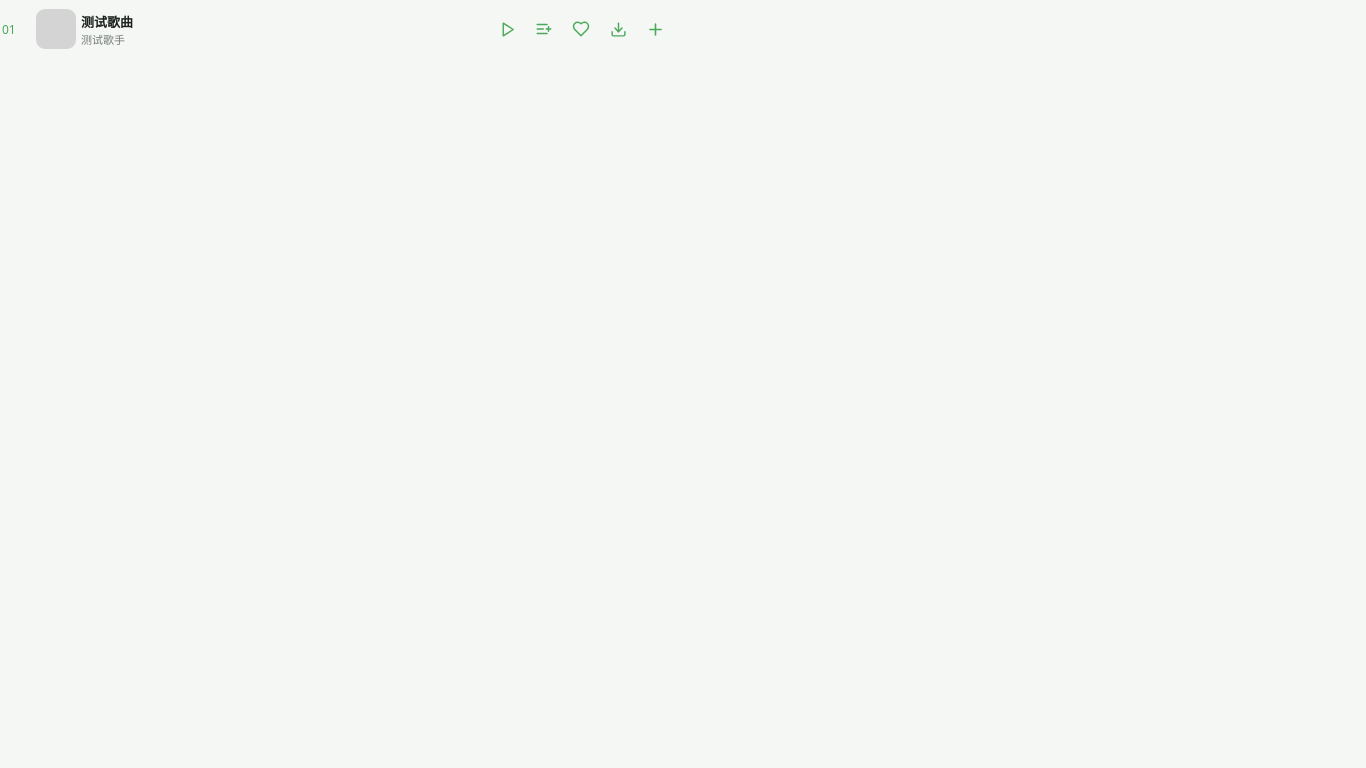
it: SongList numbering › opens the lyric download option before downloading from a list
Step 1. Click the button named "下载歌曲" → (618, 29), box [603,14,633,44]
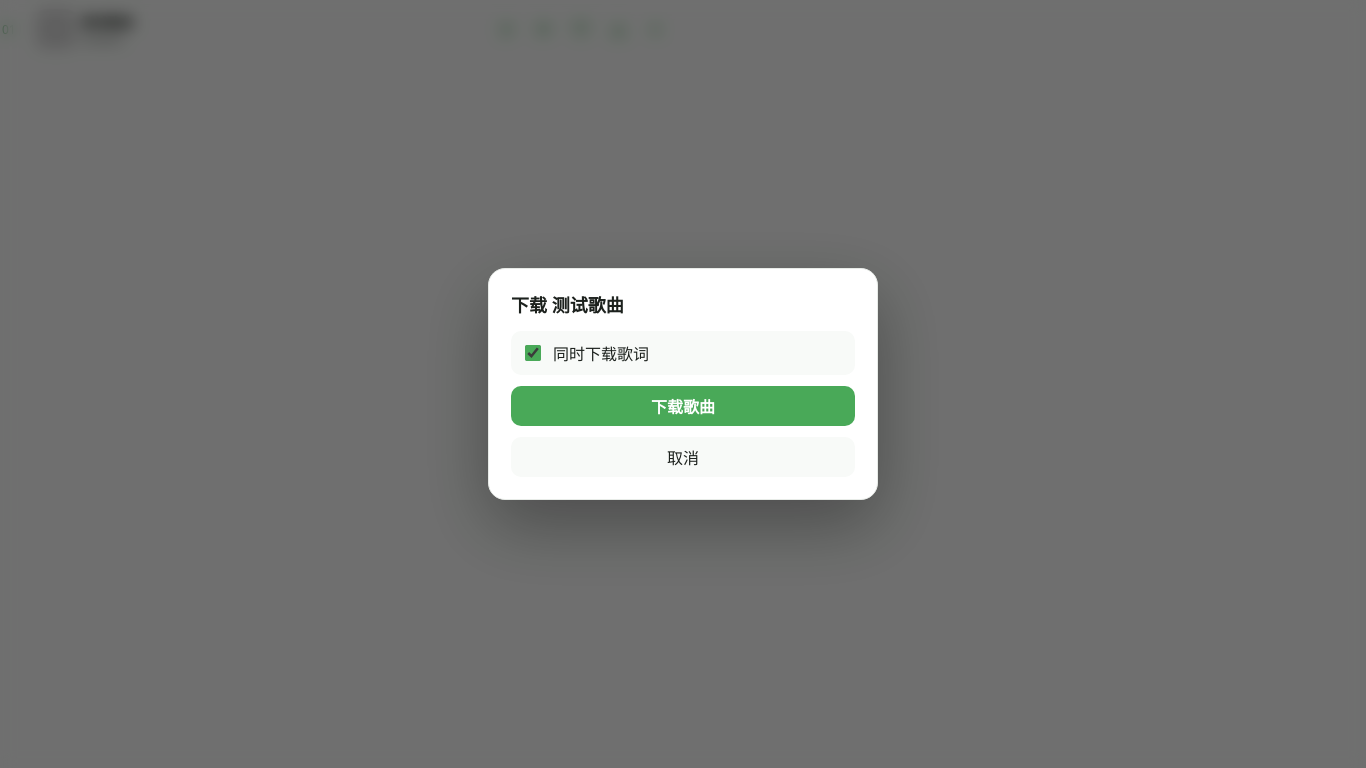
Expected: the text "同时下载歌词" is shown, [553,341,649,365]
Expected: the text "下载 测试歌曲" is shown, [511,293,624,317]
